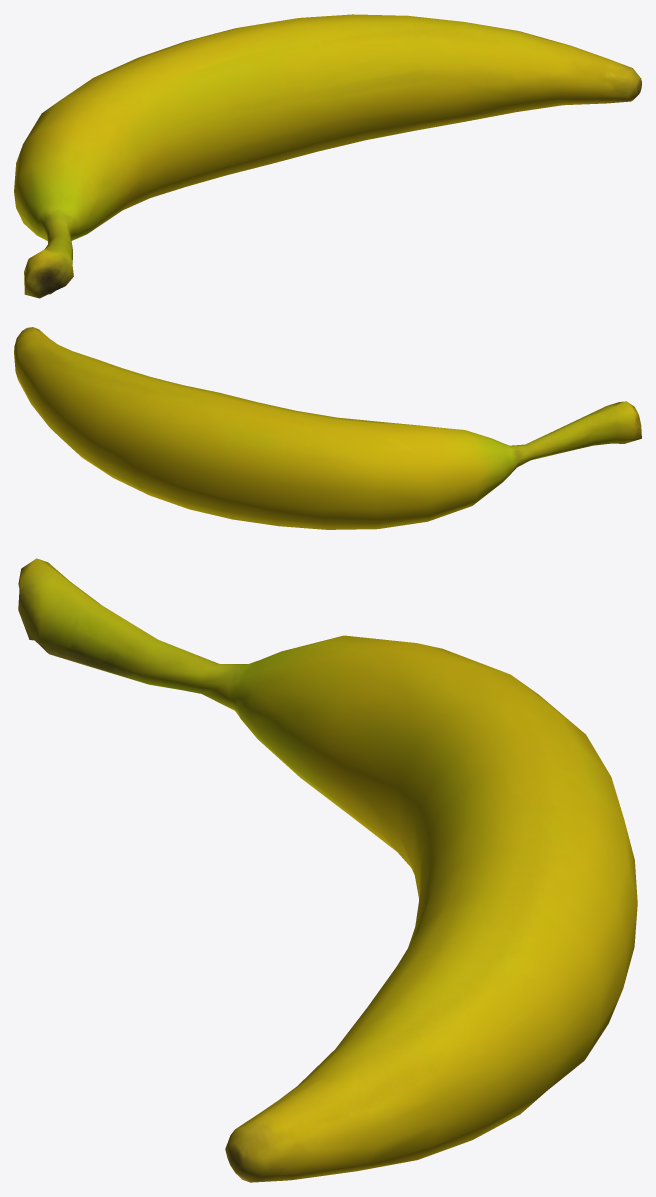
Rendered from banana-opt.glb.
3 views of the same model, one above another, from view 1: azimuth 30°, elevation 25°; view 2: azimuth 150°, elevation 25°; view 3: azimuth 270°, elevation 25° (orthographic). The views are drawn at different scales.
Visible parts, largest first — view 1: banana_low_Banana_0; view 2: banana_low_Banana_0; view 3: banana_low_Banana_0.
Part boxes in pixels (bbox=[...]): banana_low_Banana_0: bbox=[14, 14, 641, 298]; banana_low_Banana_0: bbox=[14, 327, 641, 529]; banana_low_Banana_0: bbox=[18, 558, 637, 1182].
Bounding box in the file's own units: 1.75 × 0.3225 × 0.827.
Materials: 1 (1 with a texture image).
